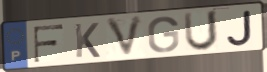F: (32, 23, 66, 64)
G: (147, 15, 182, 54)
J: (225, 9, 254, 48)
K: (72, 21, 102, 60)
U: (182, 9, 220, 53)
V: (103, 14, 146, 60)
